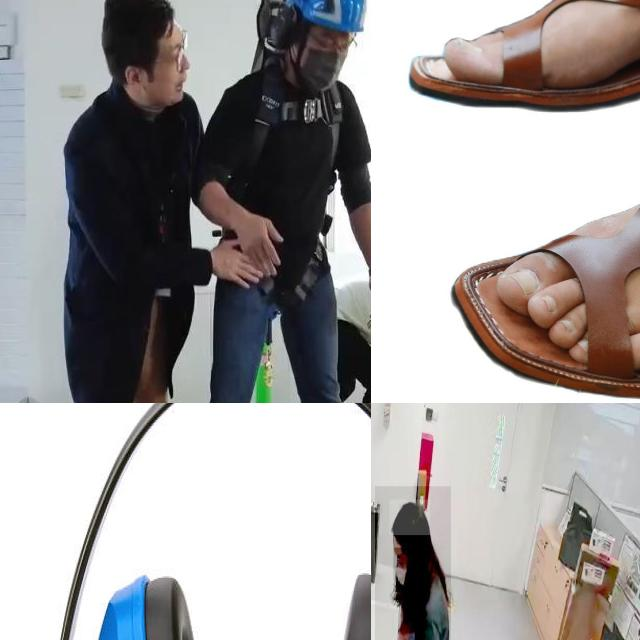Ear-protection: (50, 403, 371, 640)
Harness: (232, 58, 338, 332)
No_Ear-Protection: (124, 63, 146, 94)
Sandals: (448, 157, 640, 399)
face_mask: (393, 548, 411, 592)
head_nohelmet: (390, 500, 430, 536)
person: (374, 486, 451, 640)
